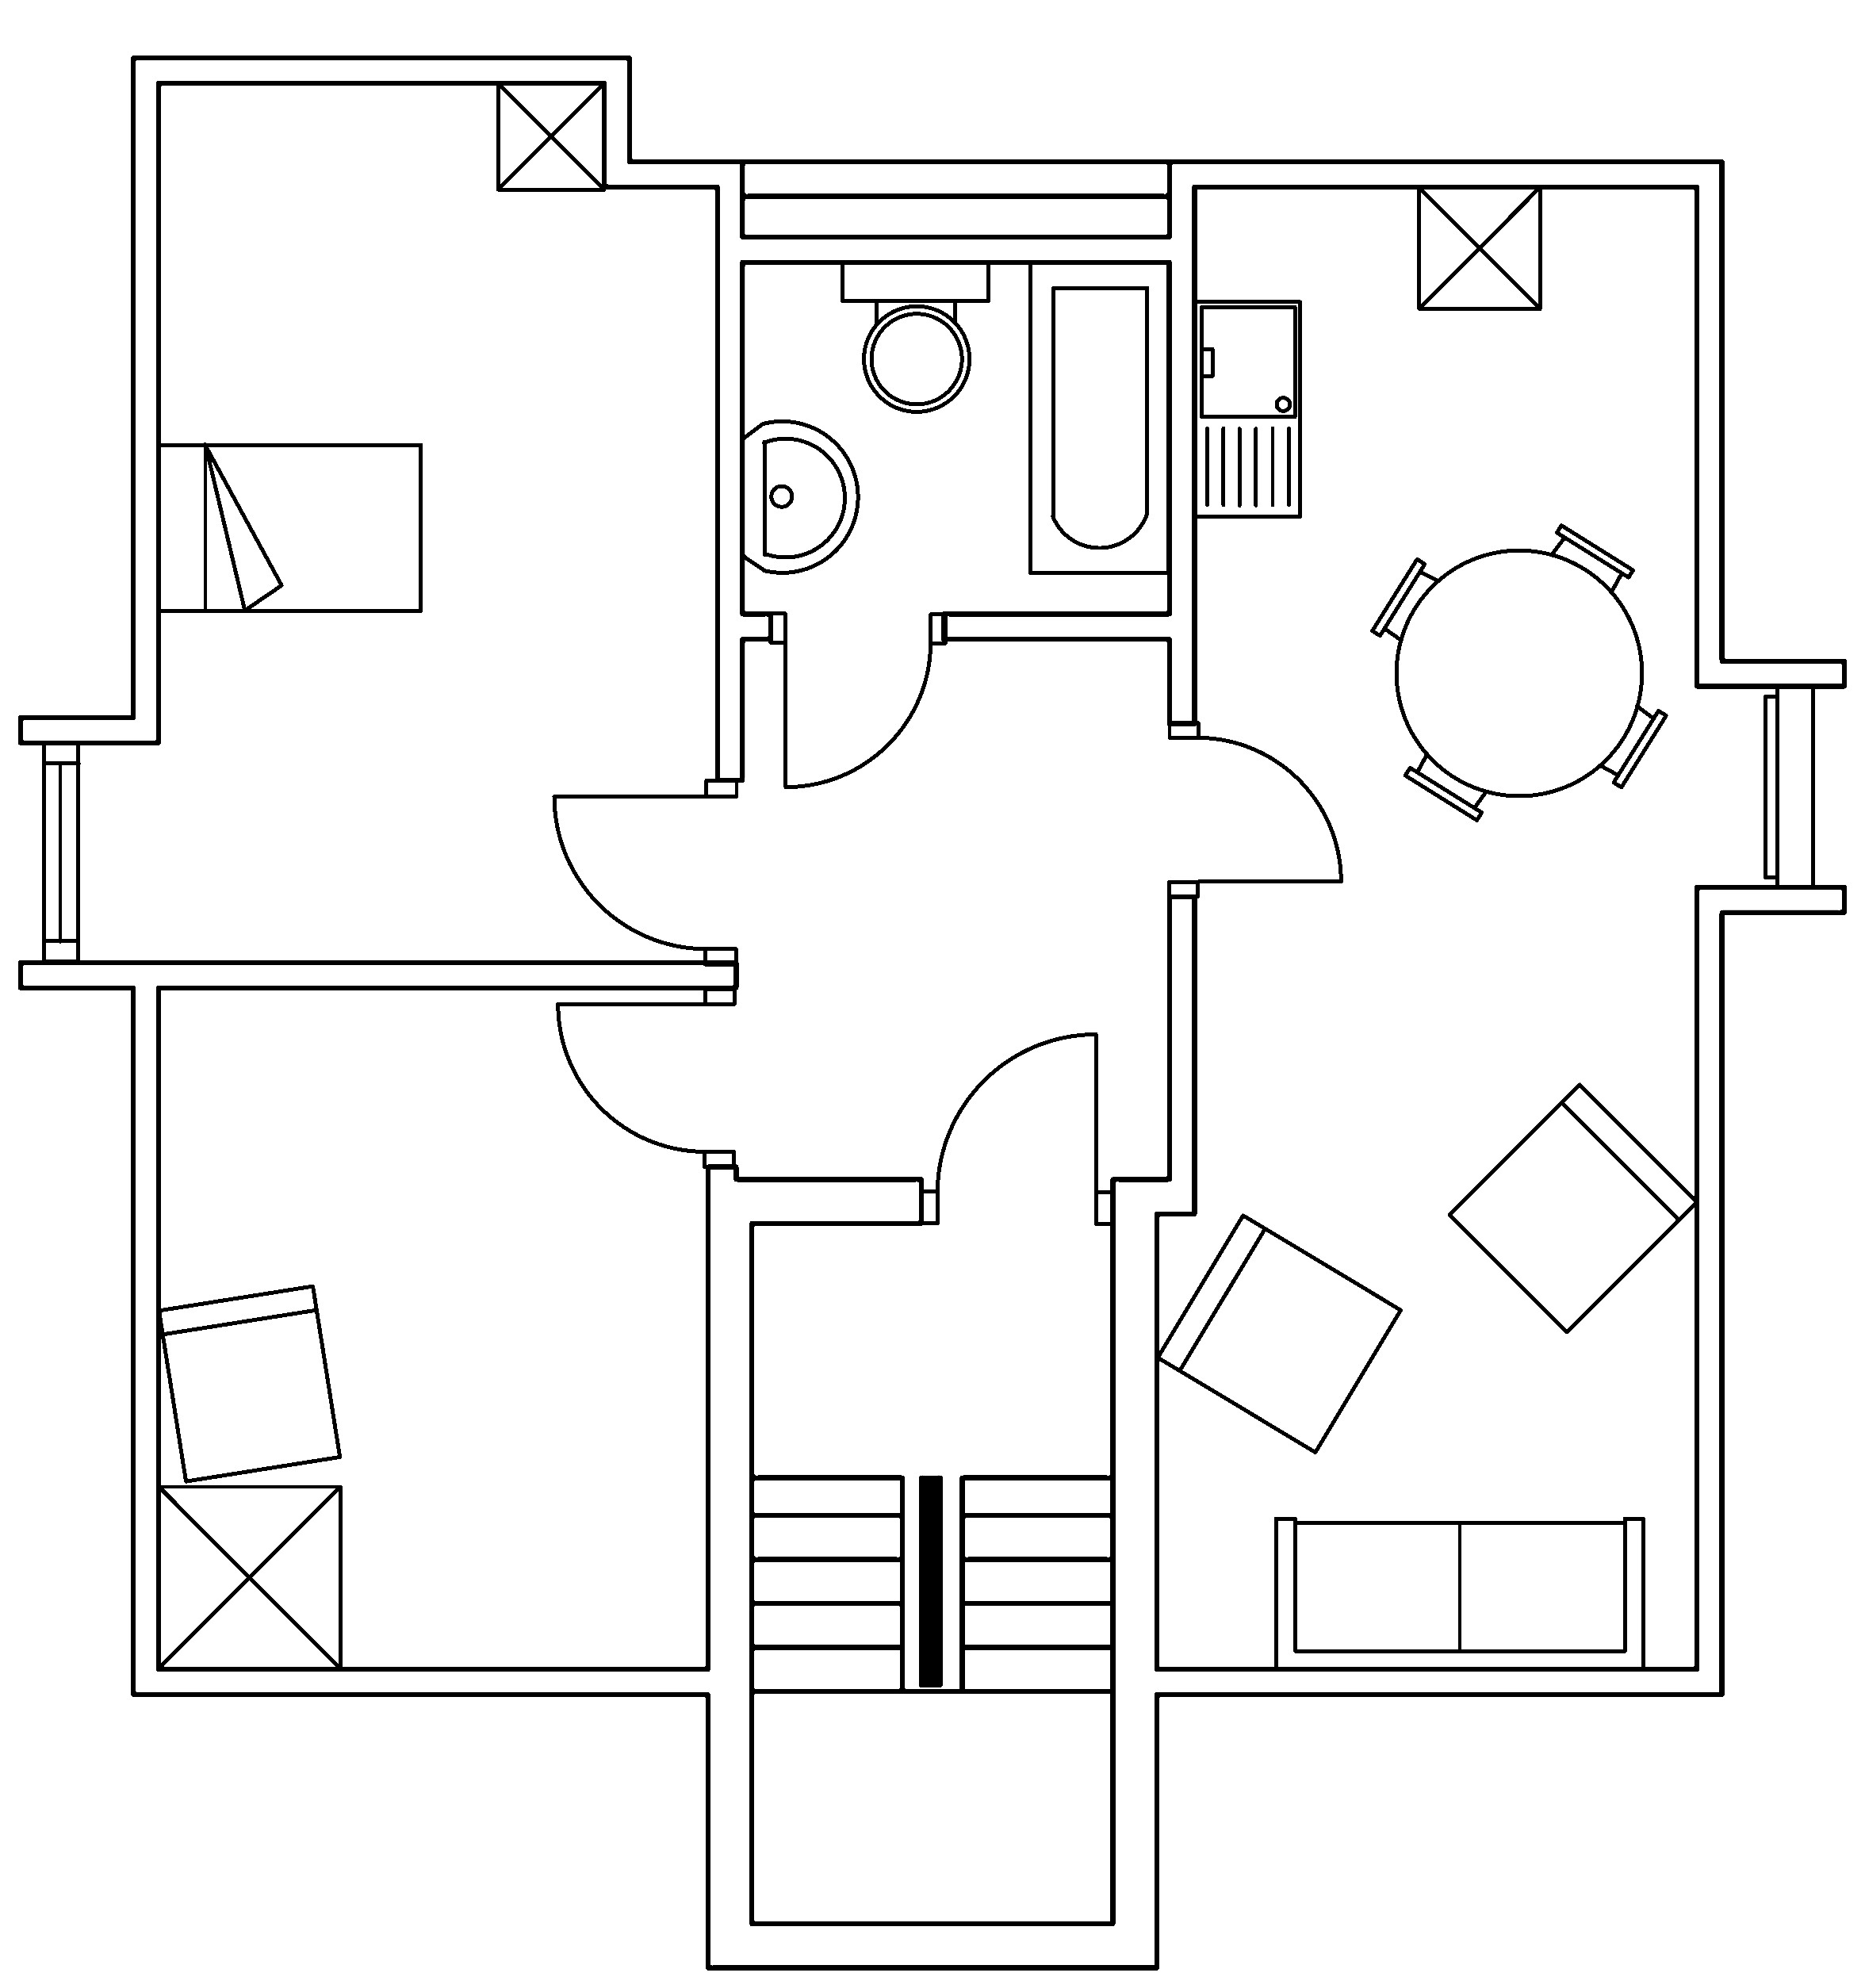bed: (154, 440, 424, 614)
coffee_table: (154, 1481, 342, 1671), (1416, 182, 1542, 310), (494, 79, 606, 191)
large_sink: (840, 258, 990, 412)
large_sofa: (1273, 1515, 1646, 1672)
round_table: (1369, 522, 1669, 822)
sink: (1192, 298, 1302, 519)
small_sink: (740, 419, 859, 573)
small_sofa: (1446, 1082, 1698, 1334), (1153, 1211, 1404, 1455), (156, 1282, 342, 1483)
tub: (1027, 258, 1171, 575)
